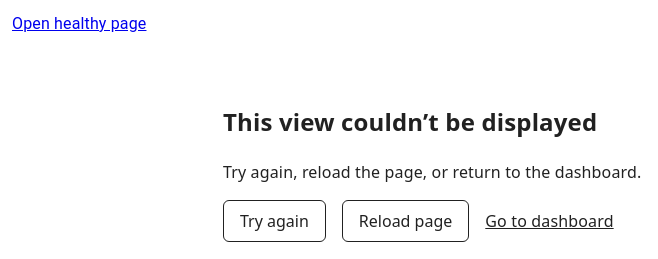
Test: keeps navigation mounted and clears a page error on navigation
Expected: the message is shown, top-left (223, 105), bottom-right (641, 242)
Click the link "Open healthy page". click: (79, 24)
box: top-left (12, 14), bottom-right (146, 33)
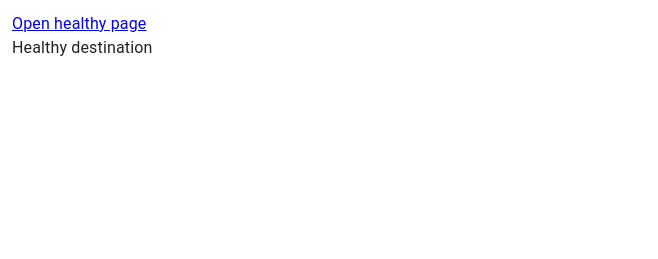
Expected: the text "Healthy destination" is shown, top-left (12, 38), bottom-right (152, 57)
